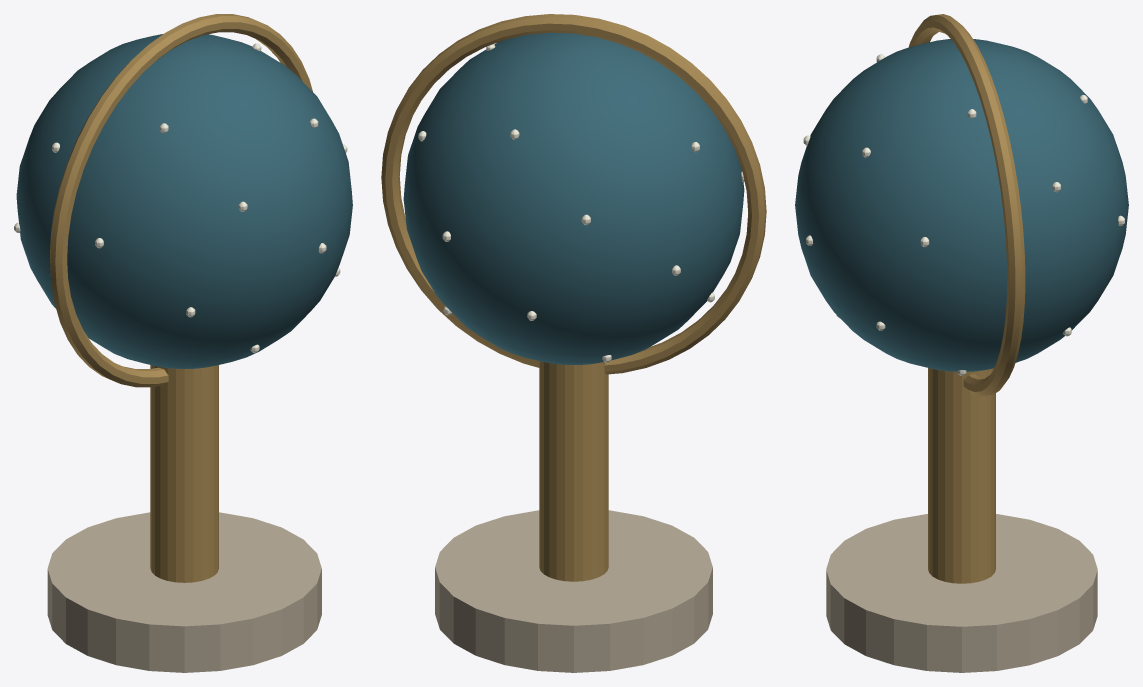
Rendered from star_globe.glb.
3 views of the same model, side by side, from view 1: azimuth 30°, elevation 25°; view 2: azimuth 150°, elevation 25°; view 3: azimuth 270°, elevation 25° (orthographic). The views are drawn at different scales.
Visible parts, largest first — view 1: painted star globe, globe foot, globe pedestal, inlaid star; view 2: painted star globe, globe foot, globe pedestal, inlaid star; view 3: painted star globe, globe foot, globe pedestal, inlaid star.
Boxes of the visible parts, x1,y1,x2,y2 form: painted star globe: [16, 34, 352, 368]; globe foot: [47, 512, 321, 672]; globe pedestal: [50, 14, 312, 582]; inlaid star: [14, 43, 347, 353]; painted star globe: [403, 32, 744, 365]; globe foot: [435, 510, 712, 672]; globe pedestal: [381, 14, 766, 581]; inlaid star: [405, 44, 744, 362]; painted star globe: [795, 39, 1128, 371]; globe foot: [826, 514, 1097, 672]; globe pedestal: [909, 14, 1025, 583]; inlaid star: [803, 54, 1124, 375].
Bounding box in the file's own units: 1.31 × 2.28 × 1.18.
